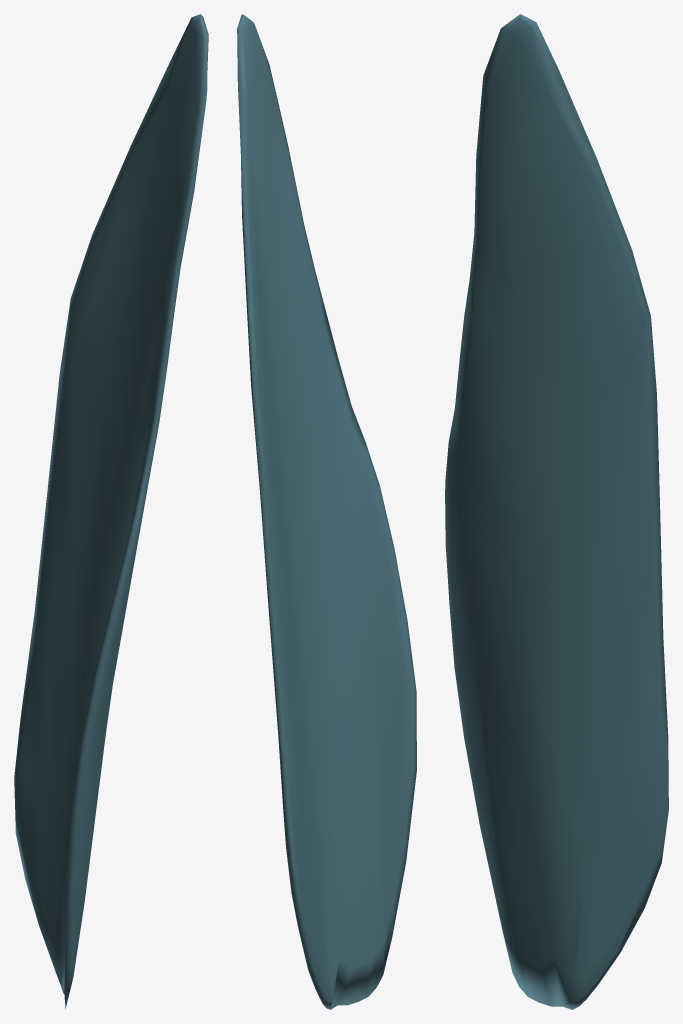
The model's file is Coracoradialis_humeral_insertion_right.glb.
The picture shows the model from 3 angles, left to right: view 1: azimuth 30°, elevation 25°; view 2: azimuth 150°, elevation 25°; view 3: azimuth 270°, elevation 25°; orthographic projection. The views are drawn at different scales.
Visible parts, largest first — view 1: Coracoradialis_muscle-Humeral_insertion.r_Generated_Mesh_Fro; view 2: Coracoradialis_muscle-Humeral_insertion.r_Generated_Mesh_Fro; view 3: Coracoradialis_muscle-Humeral_insertion.r_Generated_Mesh_Fro.
Boxes of the visible parts, x1,y1,x2,y2 form: Coracoradialis_muscle-Humeral_insertion.r_Generated_Mesh_Fro: (14,14,208,1009); Coracoradialis_muscle-Humeral_insertion.r_Generated_Mesh_Fro: (237,14,416,1009); Coracoradialis_muscle-Humeral_insertion.r_Generated_Mesh_Fro: (445,14,668,1009).
Size of the model in its own units: 0.00779 by 0.0465 by 0.00893.
